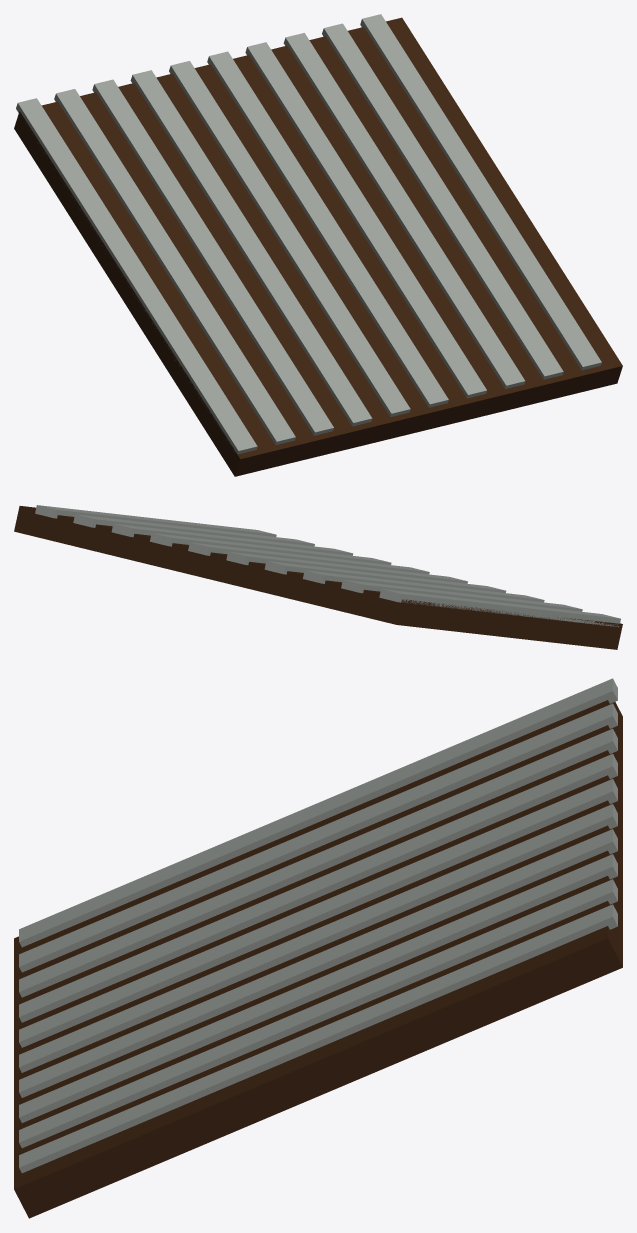
File: SM_Roof_Tin.obj
3 renders of one model, top to bottom at view 1: azimuth 30°, elevation 25°; view 2: azimuth 150°, elevation 25°; view 3: azimuth 270°, elevation 25°, orthographic. The views are drawn at different scales.
Parts seen in each view (by area): view 1: SM_Roof_Tin; view 2: SM_Roof_Tin; view 3: SM_Roof_Tin.
Boxes of the visible parts, left/top/right/bottom form: SM_Roof_Tin: left=14, top=14, right=622, bottom=476; SM_Roof_Tin: left=14, top=505, right=622, bottom=649; SM_Roof_Tin: left=14, top=678, right=622, bottom=1218.
Bounding box in the file's own units: 2 × 1.08 × 2.05.
